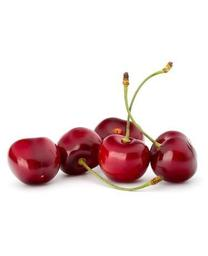cherry: (96, 133, 151, 182), (149, 131, 198, 183), (8, 138, 61, 186), (58, 127, 101, 176), (94, 118, 143, 158)
